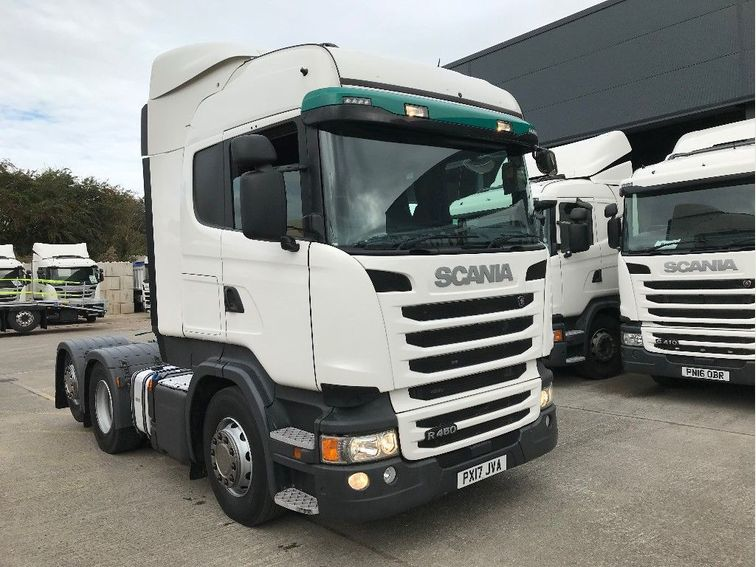Semi: (53, 41, 559, 527), (606, 120, 755, 389)
